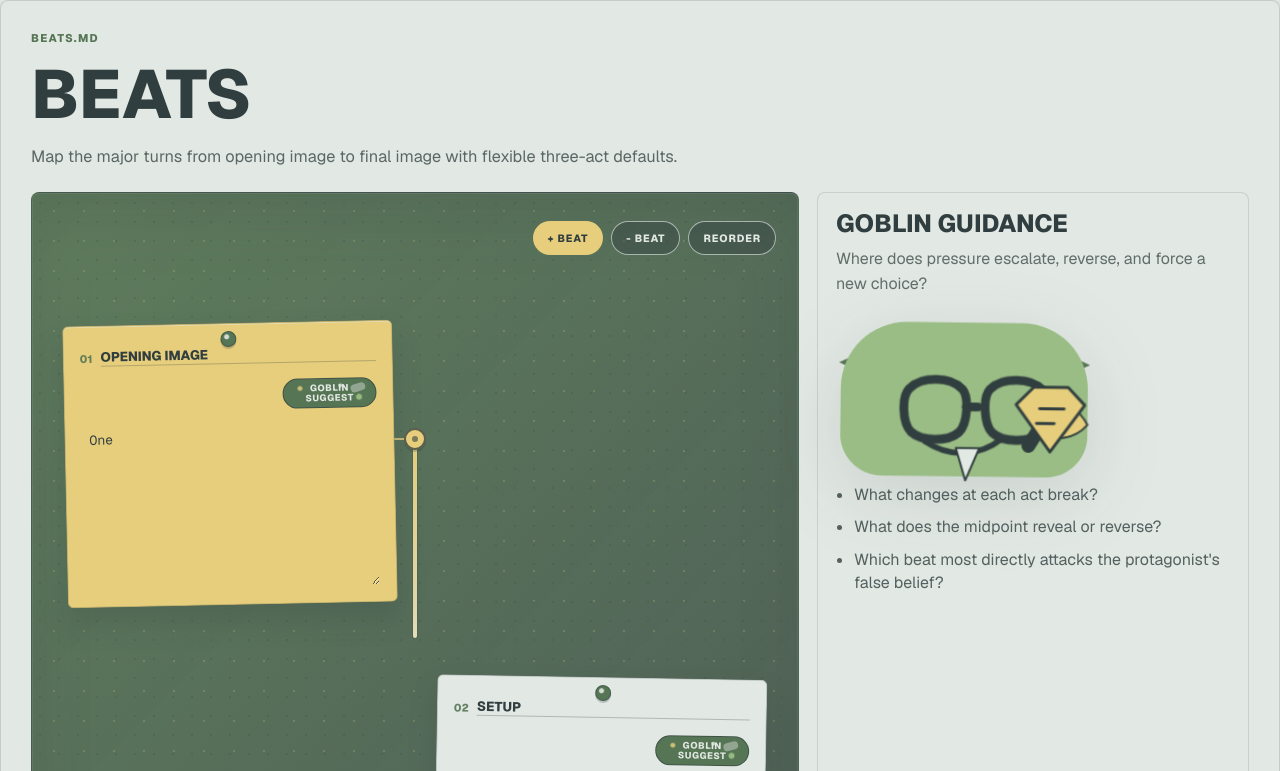
it: RoomEditorClient › deletes a beat sticky from the toolbar number picker
The width and height of the screenshot is (1280, 771).
Click the button with aria-label "Delete a beat".
click(646, 238)  # box top-left (611, 221), bottom-right (680, 255)
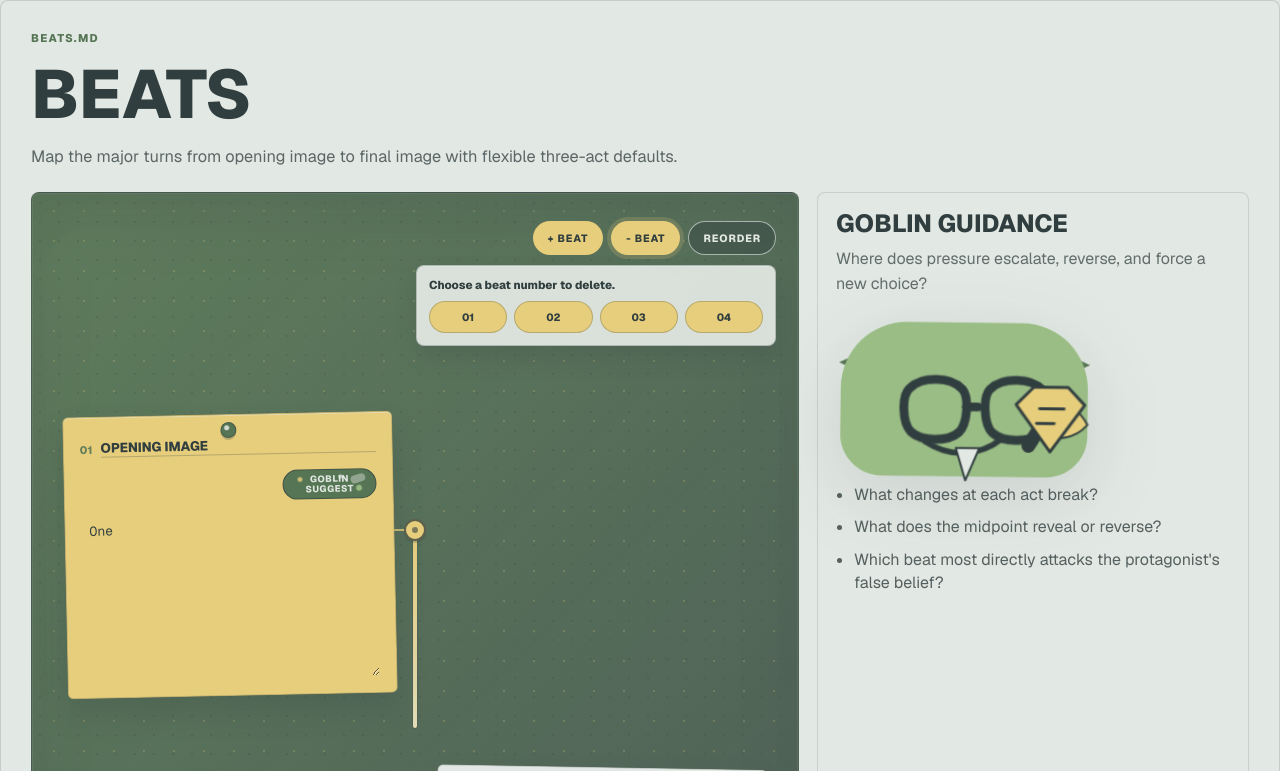
Check: the text "Choose a beat number to delete." is shown, box top-left (429, 277), bottom-right (615, 292)
Check: the button named "Delete beat 1: Opening Image" is shown, box top-left (429, 301), bottom-right (507, 333)
Check: the button named "Delete beat 2: Setup" is shown
Click the button named "Delete beat 2: Setup".
click(553, 317)  # box top-left (514, 301), bottom-right (593, 333)
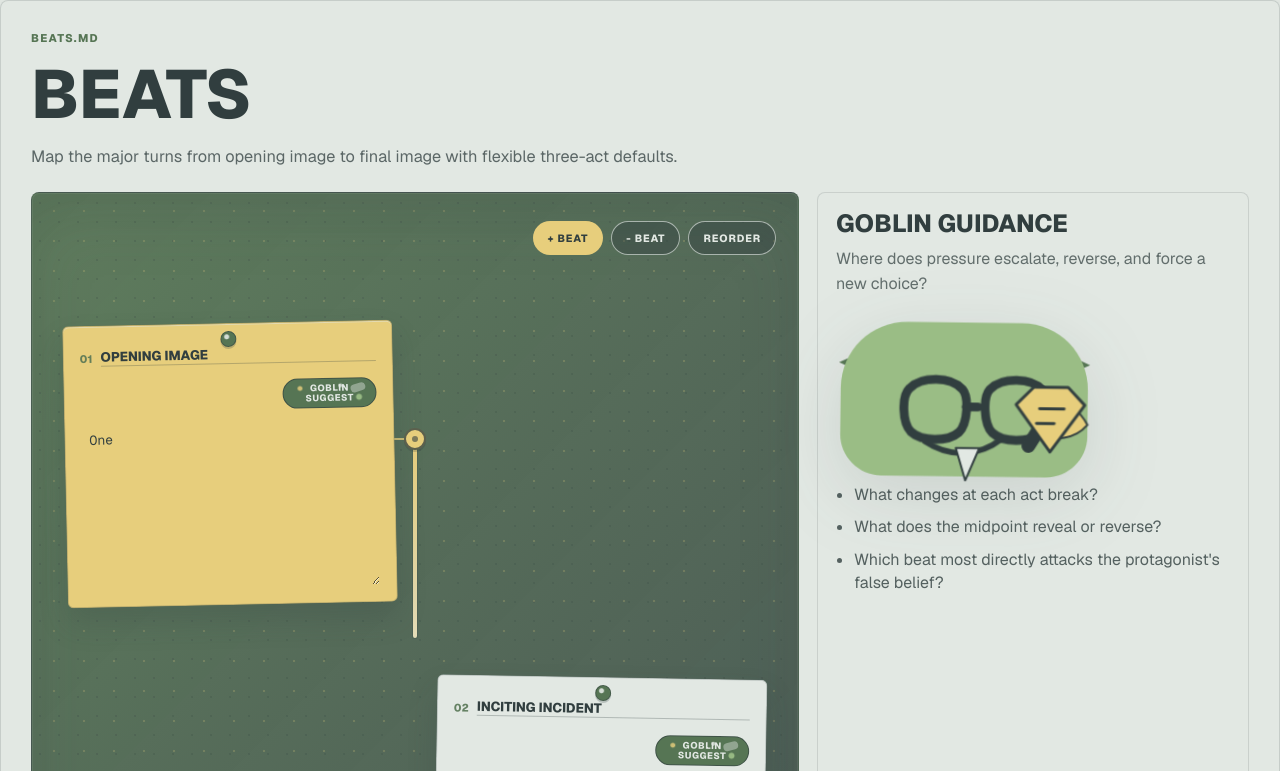
Check: the text "Choose a beat number to delete" is gone
